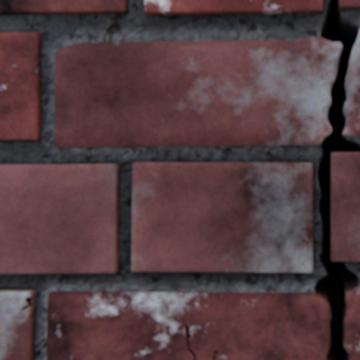brick: (132, 162, 313, 271), (0, 164, 120, 273), (0, 33, 42, 140), (331, 152, 359, 261), (145, 0, 323, 15), (0, 289, 36, 359), (0, 0, 129, 15), (339, 0, 359, 10)
broken_brick: (56, 37, 341, 146), (48, 291, 328, 359), (343, 30, 359, 135), (344, 285, 359, 359)
crack: (315, 0, 359, 359), (186, 322, 196, 359), (23, 296, 33, 308), (214, 349, 218, 359)
